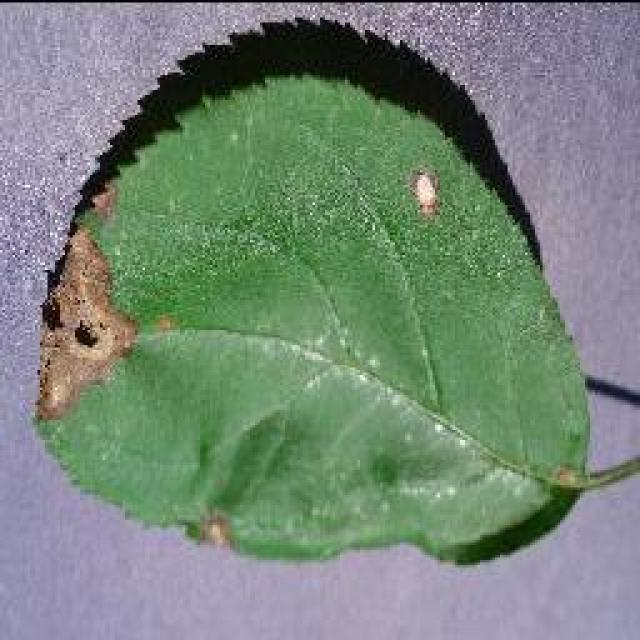Black_rot: (30, 15, 595, 565)
